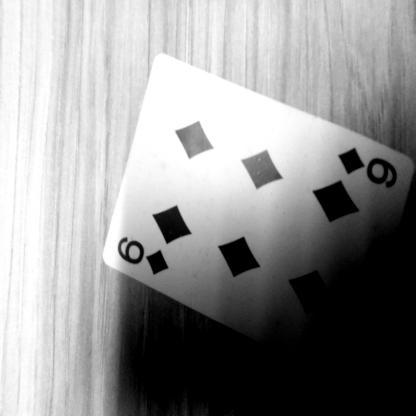6D: (320, 138, 414, 193), (108, 236, 182, 294)
